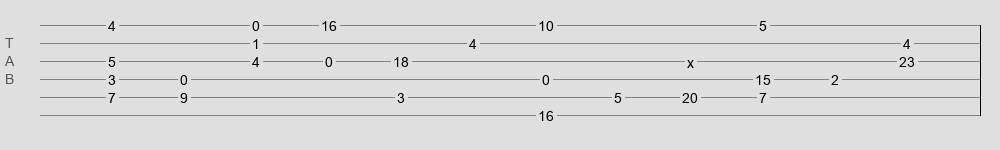0: (180, 72, 188, 82), (252, 18, 260, 28), (325, 54, 333, 64), (542, 72, 550, 82)
1: (252, 36, 260, 46)
10: (538, 18, 554, 28)
15: (755, 72, 771, 82)
16: (321, 18, 337, 28), (538, 108, 554, 118)
18: (393, 54, 409, 64)
2: (831, 72, 839, 82)
20: (682, 90, 698, 100)
23: (899, 54, 915, 64)
3: (108, 72, 116, 82), (397, 90, 405, 100)
4: (108, 18, 116, 28), (252, 54, 260, 64), (469, 36, 477, 46), (903, 36, 911, 46)
5: (108, 54, 116, 64), (614, 90, 622, 100), (759, 18, 767, 28)
7: (108, 90, 116, 100), (759, 90, 767, 100)
9: (180, 90, 188, 100)
x: (687, 55, 694, 63)
